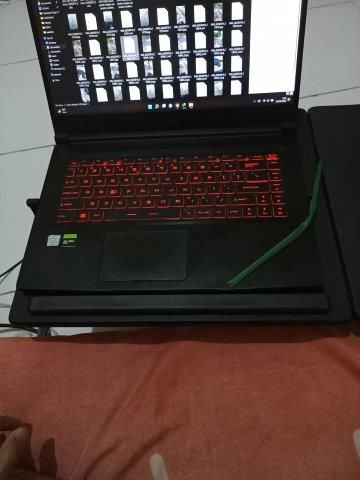sedotan: (229, 163, 322, 286)
